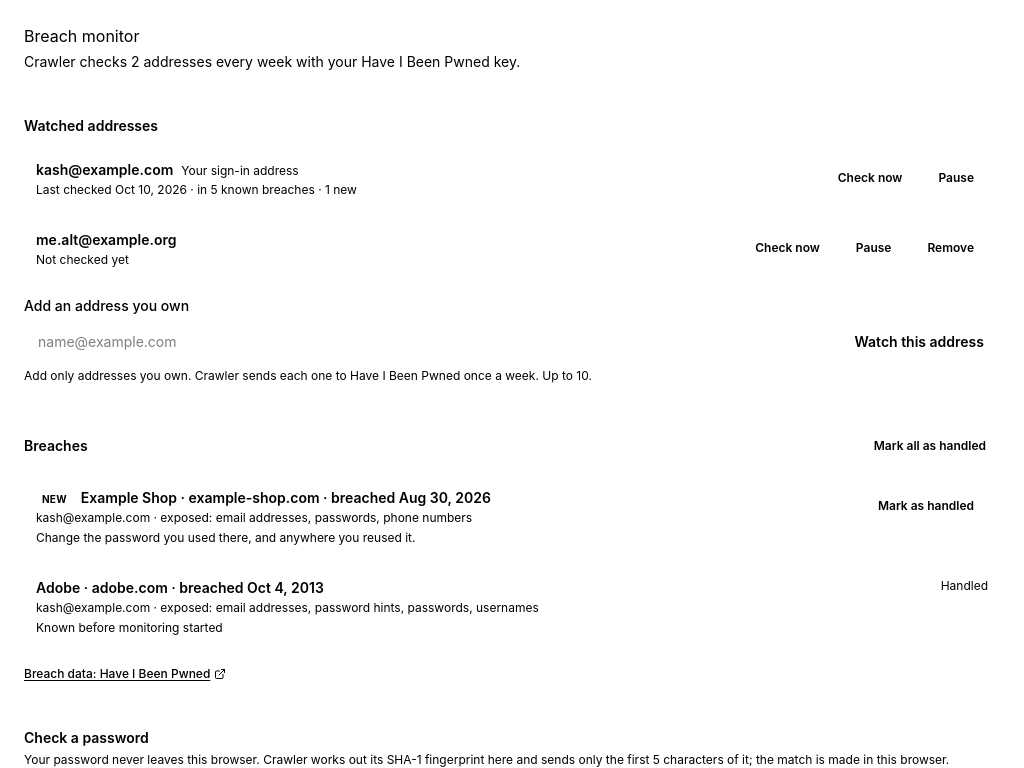
it: BreachMonitorTab › a failed Remove keeps the row and shows the server's reason in the dialog
Click the button with aria-label "Remove me.alt@example.org" at (951, 248), box x1=913 y1=230 x2=988 y2=266
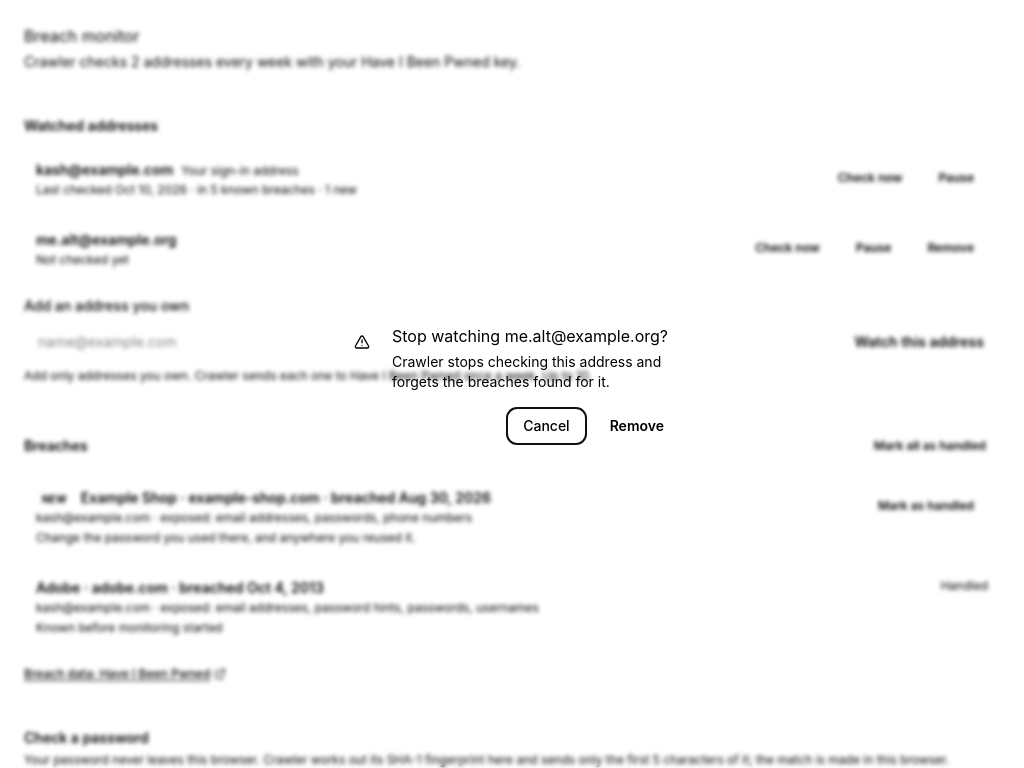
Click the button "Remove" at (637, 426), box x1=594 y1=408 x2=680 y2=444
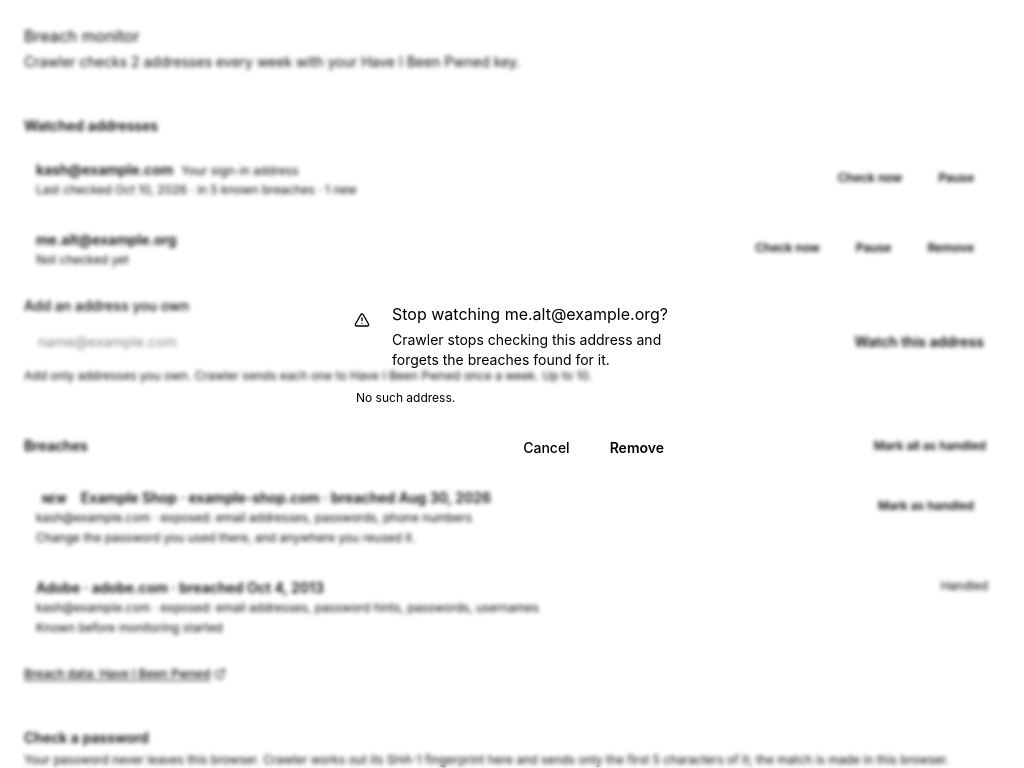
Expected: the text "No such address." is shown, x1=356 y1=390 x2=455 y2=405
